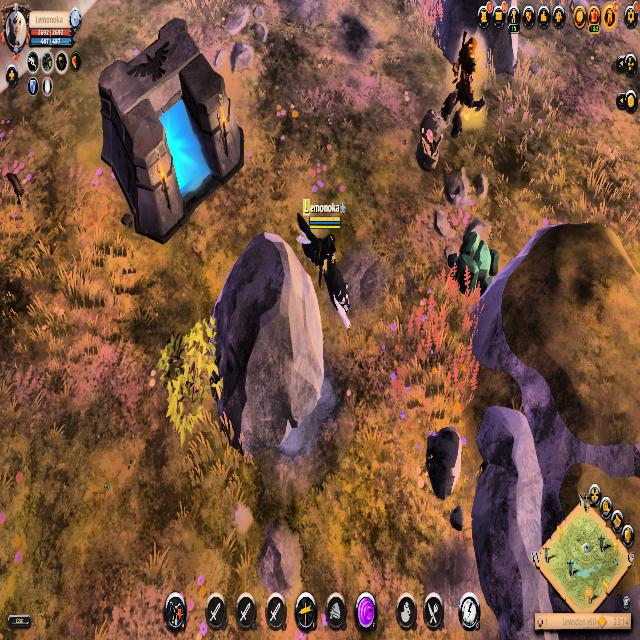rock tier 3: (446, 221, 500, 301)
